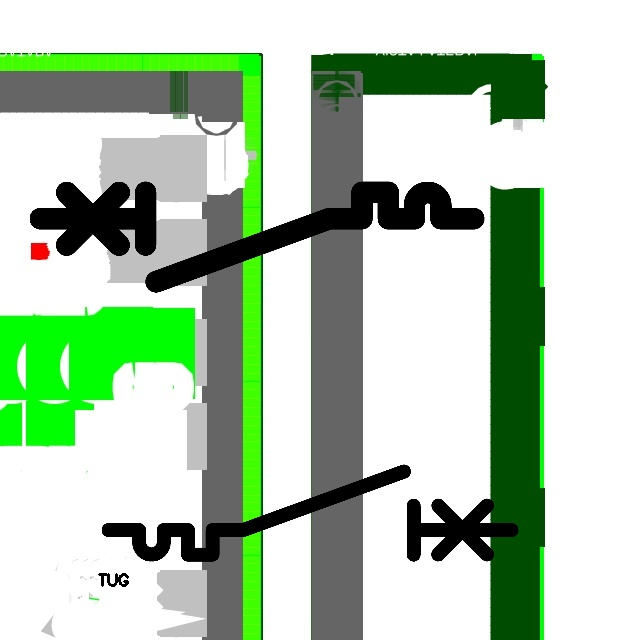interruptor_termomagnetico: (29, 181, 485, 292), (98, 461, 522, 565)
